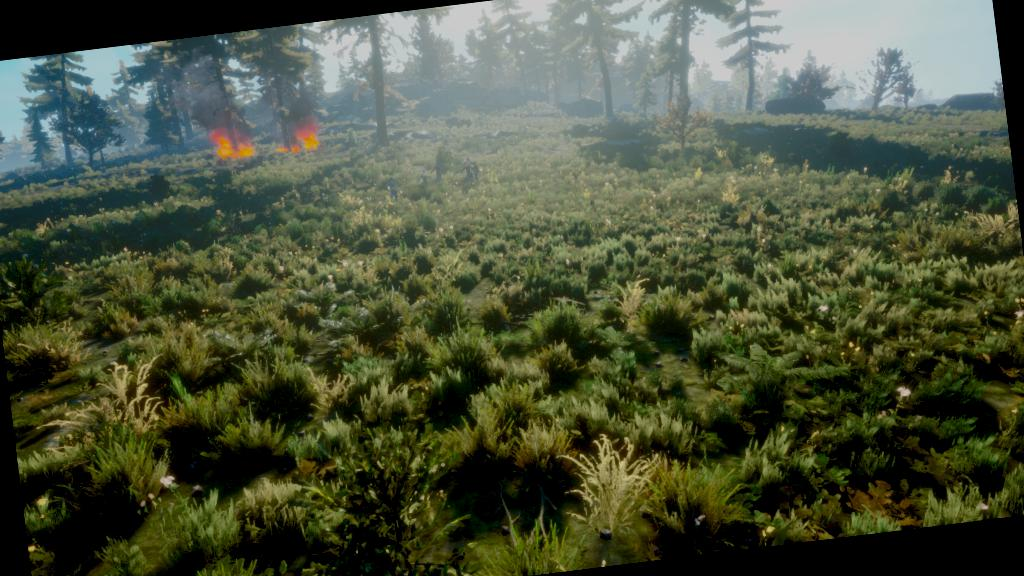Fire: (202, 122, 264, 166), (276, 112, 326, 159)
human: (460, 152, 494, 192), (425, 159, 451, 184)
smoke: (268, 76, 338, 116), (188, 86, 249, 129)
